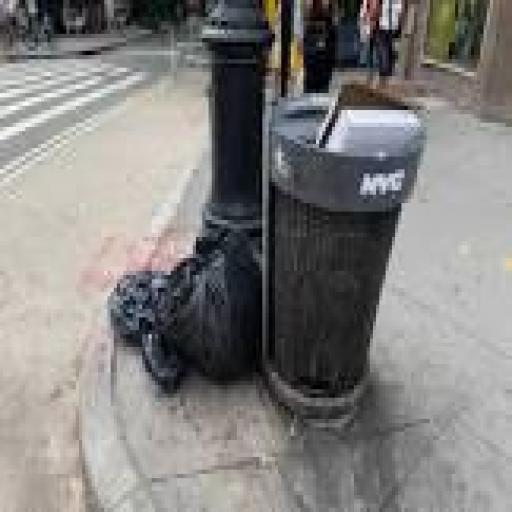poubelle_vide: (253, 90, 434, 445)
